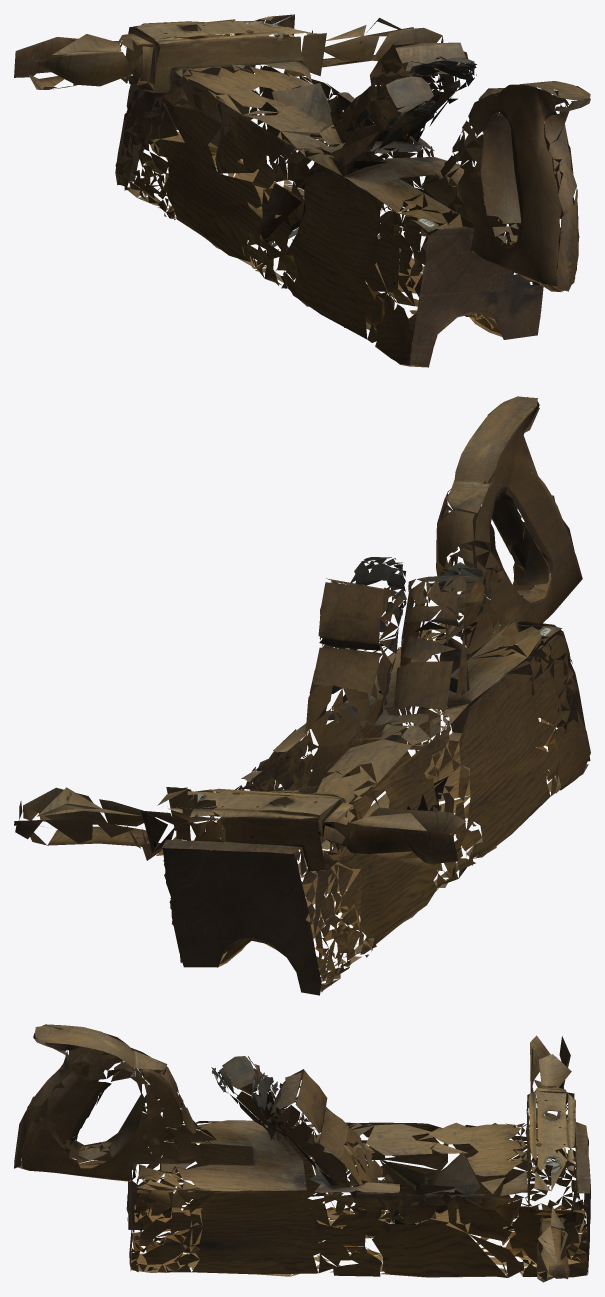
The model's file is wood_plane.glb.
3 views of the same model, one above another, from view 1: azimuth 30°, elevation 25°; view 2: azimuth 150°, elevation 25°; view 3: azimuth 270°, elevation 25° (orthographic). The views are drawn at different scales.
Visible parts, largest first — view 1: Object_3, Object_2; view 2: Object_3, Object_2; view 3: Object_2, Object_3.
Part boxes in pixels (x1,y1,x2,y2): Object_3: [115, 16, 590, 367]; Object_2: [14, 14, 578, 342]; Object_3: [162, 396, 590, 995]; Object_2: [14, 511, 573, 991]; Object_2: [30, 1035, 589, 1282]; Object_3: [14, 1024, 590, 1279].
Size of the model in its own units: 25.32 by 17.2 by 35.99.
Materials: 1 (1 with a texture image).
